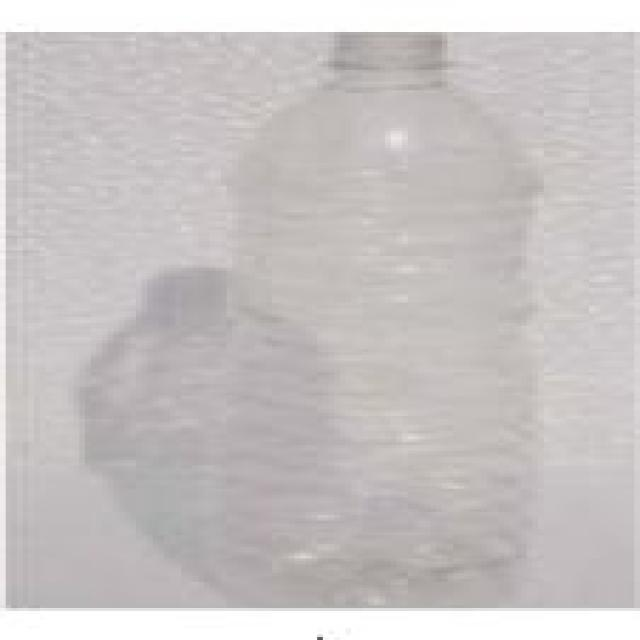bottle: (195, 16, 558, 615)
